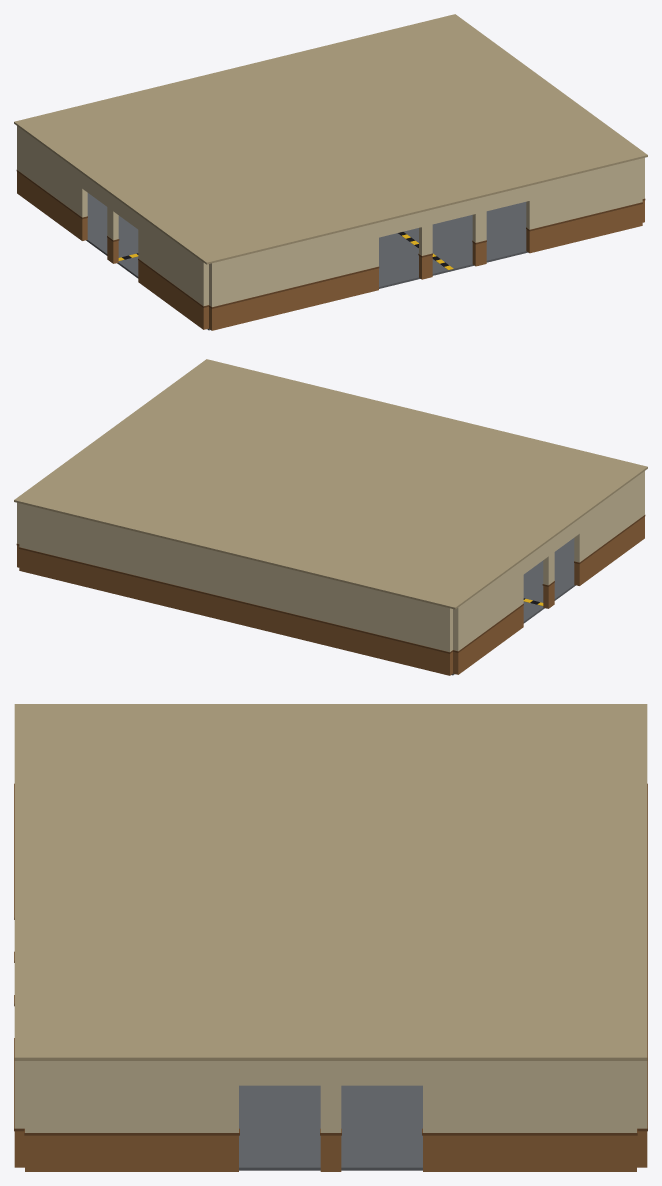
File: room_robotics_welcome_center.glb
The picture shows the model from 3 angles, top to bottom: view 1: azimuth 30°, elevation 25°; view 2: azimuth 150°, elevation 25°; view 3: azimuth 270°, elevation 25°; orthographic projection. The views are drawn at different scales.
Visible parts, largest first — view 1: room_robotics_welcome_center; view 2: room_robotics_welcome_center; view 3: room_robotics_welcome_center.
Boxes of the visible parts, x1,y1,x2,y2 form: room_robotics_welcome_center: [14, 14, 647, 330]; room_robotics_welcome_center: [14, 359, 647, 675]; room_robotics_welcome_center: [14, 704, 647, 1171].
Bounding box in the file's own units: 24.62 × 3.8 × 18.64.
Materials: 1 (1 with a texture image).
